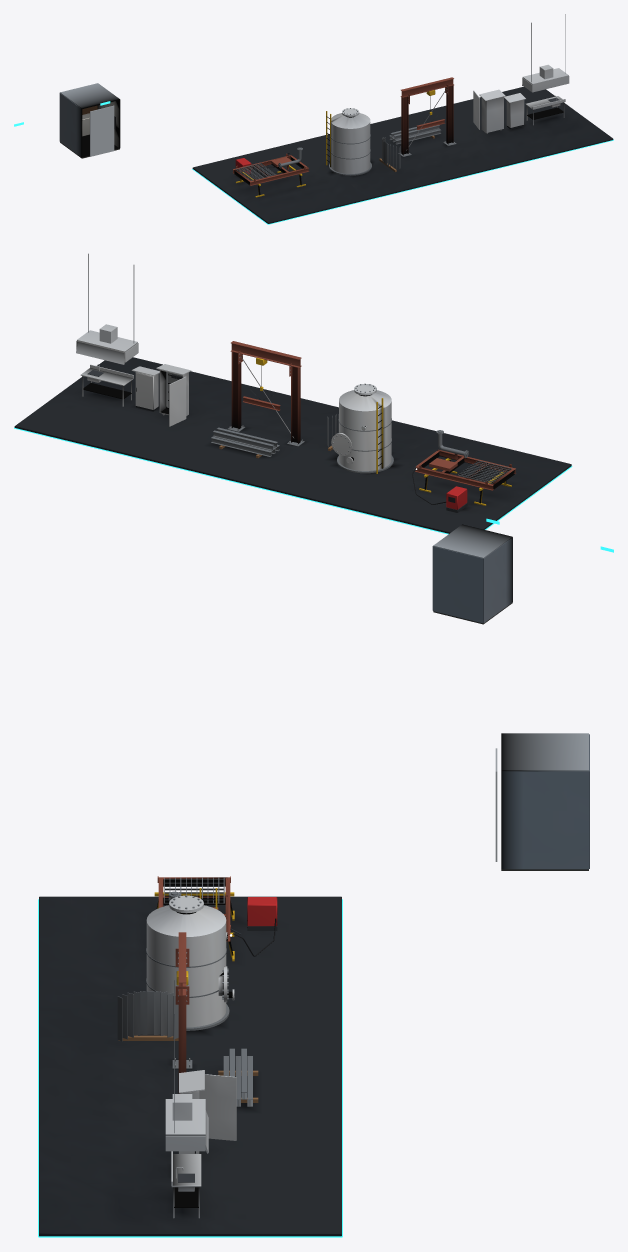
Rendered from ex_fabrication.glb.
The picture shows the model from 3 angles, top to bottom: view 1: azimuth 30°, elevation 25°; view 2: azimuth 150°, elevation 25°; view 3: azimuth 270°, elevation 25°; orthographic projection. The views are drawn at different scales.
Parts seen in each view (by area): view 1: static.plinth, static.stainless, static.steel_primer, lift_cabin.steel, static.steel_raw, lift_cabin.white, liftDoorL.steel, liftDoorR.steel, accent_strip.accent, static.paint_yellow; view 2: static.plinth, static.stainless, lift_cabin.steel, static.steel_primer, static.steel_raw, lift_cabin.white, accent_strip.accent, static.paint_yellow; view 3: static.plinth, static.stainless, lift_cabin.steel, static.steel_raw, lift_cabin.white, static.steel_primer, accent_strip.accent, static.paint_red.
Part boxes in pixels (left/top/right/bottom): static.plinth: left=192, top=86, right=613, bottom=223; static.stainless: left=331, top=64, right=569, bottom=173; static.steel_primer: left=233, top=77, right=453, bottom=185; lift_cabin.steel: left=59, top=93, right=120, bottom=157; static.steel_raw: left=235, top=125, right=456, bottom=180; lift_cabin.white: left=60, top=83, right=119, bottom=109; liftDoorL.steel: left=90, top=108, right=102, bottom=156; liftDoorR.steel: left=102, top=105, right=114, bottom=153; accent_strip.accent: left=192, top=139, right=613, bottom=224; static.paint_yellow: left=235, top=90, right=435, bottom=197; static.plinth: left=14, top=357, right=571, bottom=533; static.stainless: left=76, top=324, right=391, bottom=470; lift_cabin.steel: left=432, top=537, right=512, bottom=623; static.steel_primer: left=230, top=341, right=515, bottom=490; static.steel_raw: left=211, top=414, right=511, bottom=483; lift_cabin.white: left=433, top=524, right=512, bottom=558; accent_strip.accent: left=14, top=427, right=572, bottom=534; static.paint_yellow: left=256, top=357, right=511, bottom=505; static.plinth: left=39, top=896, right=341, bottom=1236; static.stainless: left=146, top=895, right=236, bottom=1218; lift_cabin.steel: left=501, top=734, right=589, bottom=869; static.steel_raw: left=117, top=877, right=252, bottom=1106; lift_cabin.white: left=501, top=733, right=588, bottom=771; static.steel_primer: left=157, top=876, right=230, bottom=1093; accent_strip.accent: left=38, top=899, right=342, bottom=1237; static.paint_red: left=247, top=897, right=277, bottom=926.
Size of the model in its own units: 28.32 by 5.88 by 13.85.
